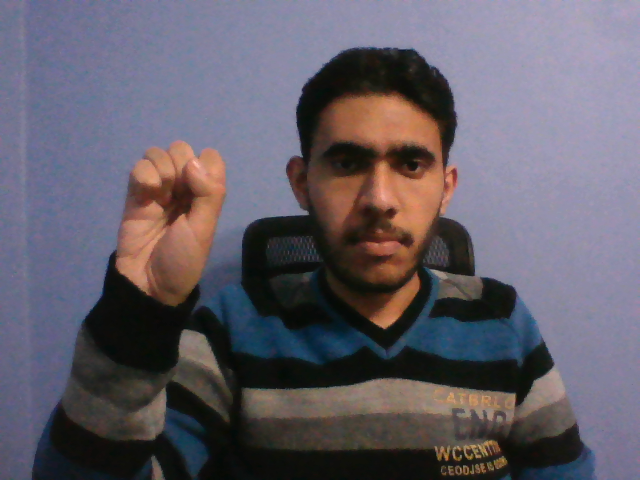S: (111, 133, 228, 314)
